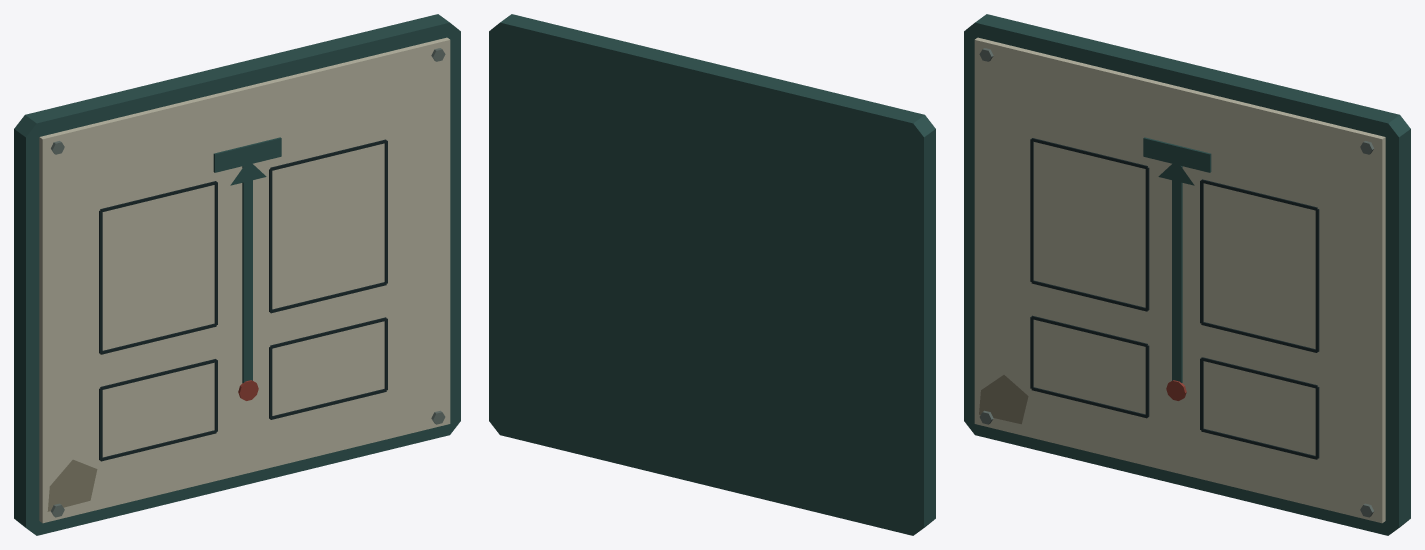
File: emergency-diagram.glb
The picture shows the model from 3 angles, left to right: view 1: azimuth 30°, elevation 25°; view 2: azimuth 150°, elevation 25°; view 3: azimuth 330°, elevation 25°; orthographic projection.
Visible parts, largest first — view 1: emergency-diagram; view 2: emergency-diagram; view 3: emergency-diagram.
Part boxes in pixels (box(x1,y1,x2,y2)): emergency-diagram: box(14, 14, 460, 535); emergency-diagram: box(489, 14, 935, 535); emergency-diagram: box(964, 14, 1410, 535).
Bounding box in the file's own units: 0.64 × 0.58 × 0.045.
